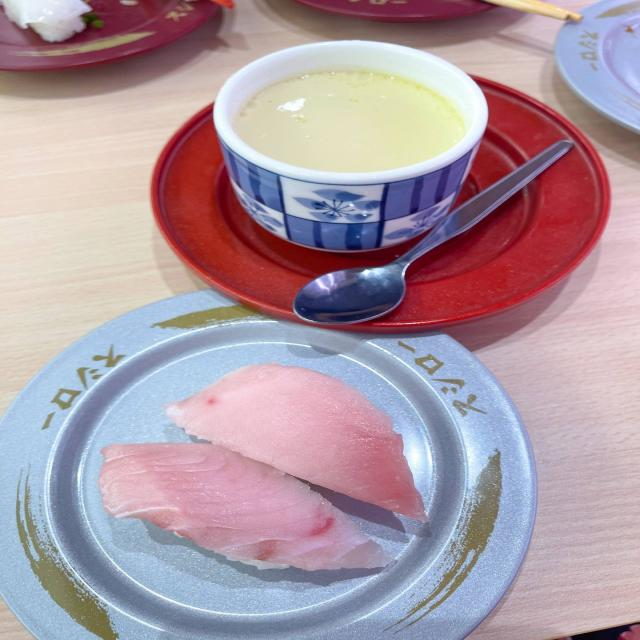janred: (148, 88, 595, 301), (2, 2, 212, 74), (295, 0, 518, 32)
janwoven: (26, 319, 478, 627), (543, 4, 640, 148)
